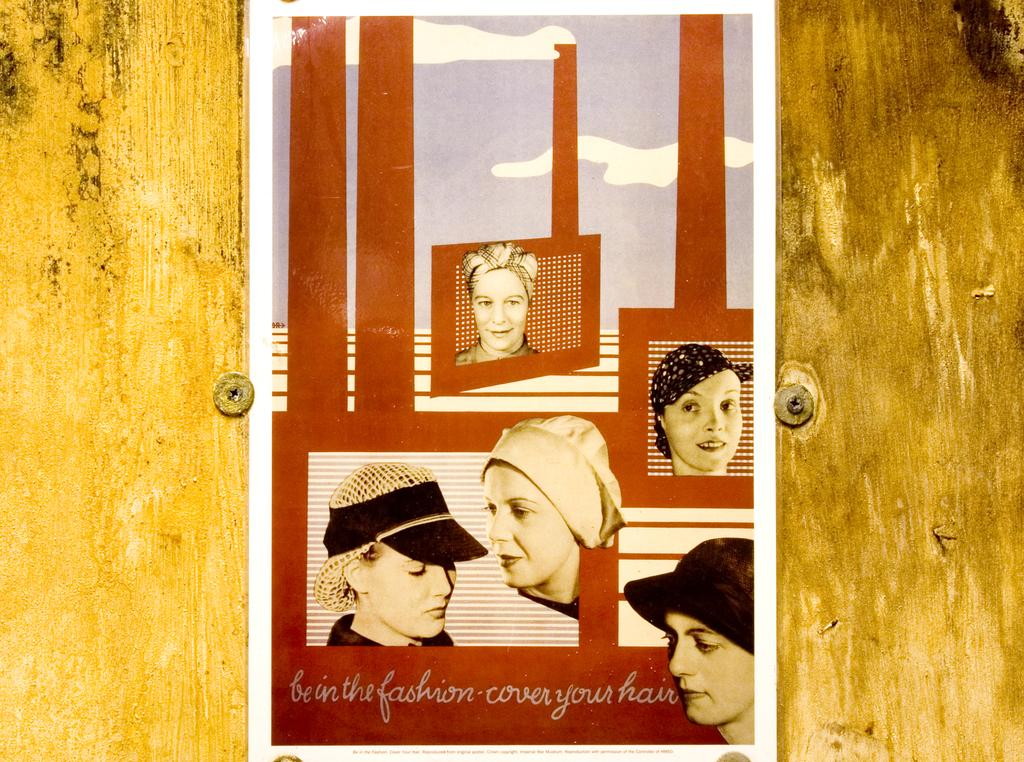Hat: (313, 460, 490, 609), (620, 533, 754, 654), (648, 343, 754, 409)
